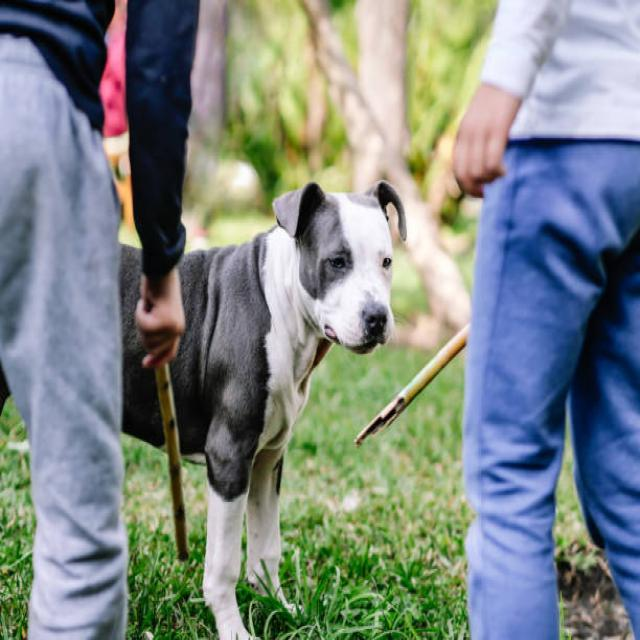injured-animals: (58, 146, 466, 640), (0, 81, 520, 242)
